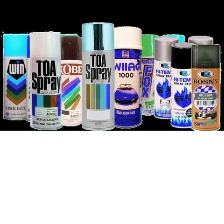aerosol_cans: (77, 16, 117, 132), (26, 29, 65, 131), (109, 22, 144, 129), (169, 38, 206, 129), (129, 29, 165, 117), (188, 41, 223, 131), (150, 33, 185, 122), (56, 33, 88, 128), (0, 30, 33, 122)
